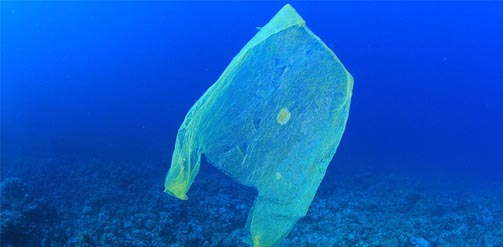litter: (157, 17, 362, 233)
